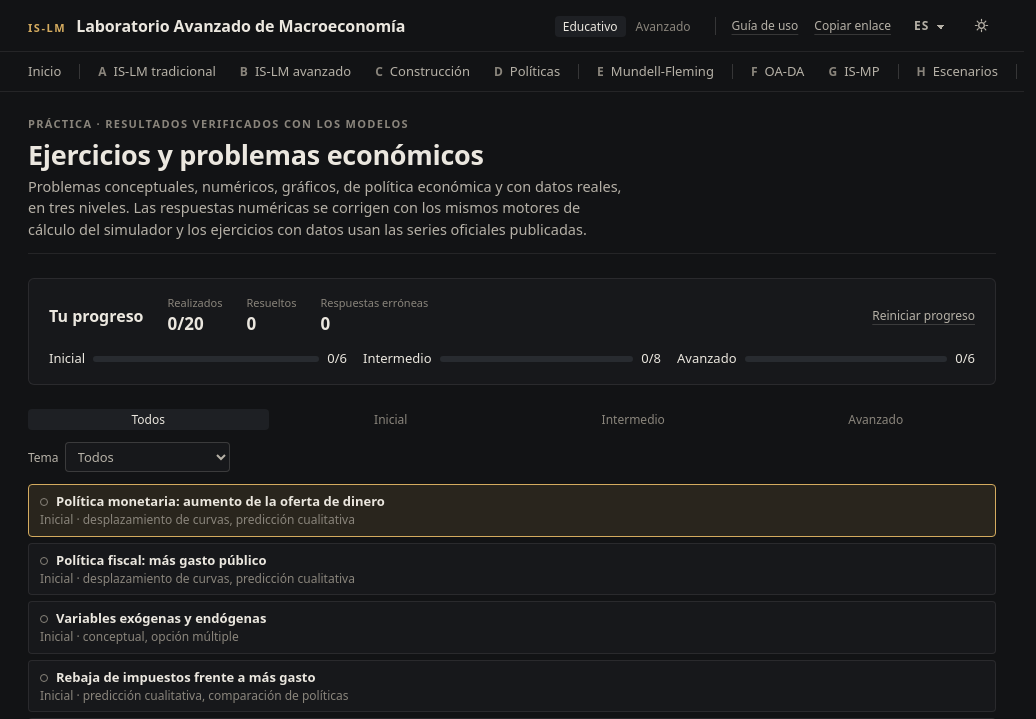
Test: Exercises › filters by level
The width and height of the screenshot is (1036, 719).
Click the 2nd button "Avanzado": (876, 420) [756,409,996,430]
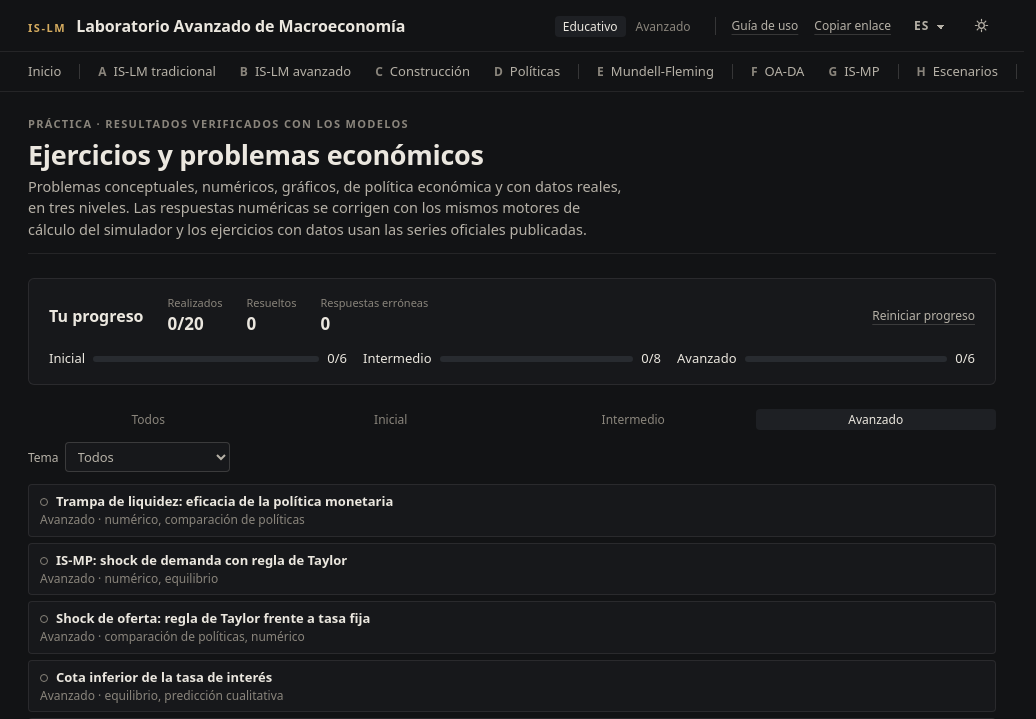
Expected: the button "Política monetaria: aumento de la oferta de dinero" is not shown
Now the button "Cota inferior de la tasa de interés" is shown, box [28,660,996,712]
